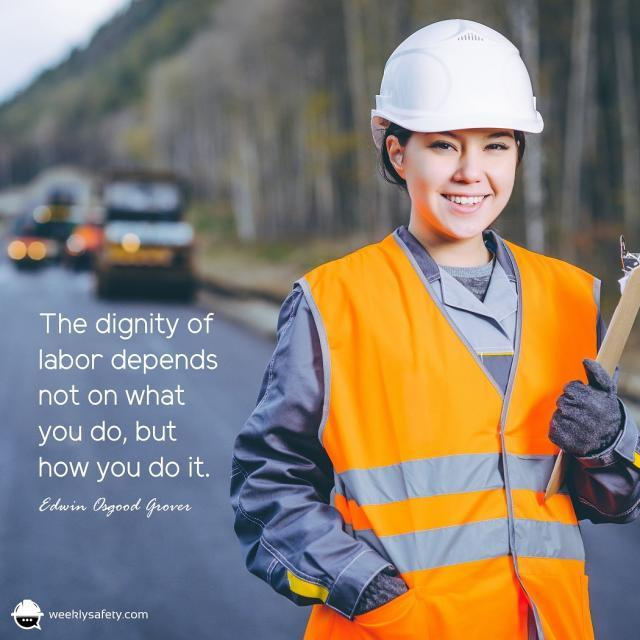helmet: (384, 24, 543, 153)
jacket: (314, 250, 603, 629)
